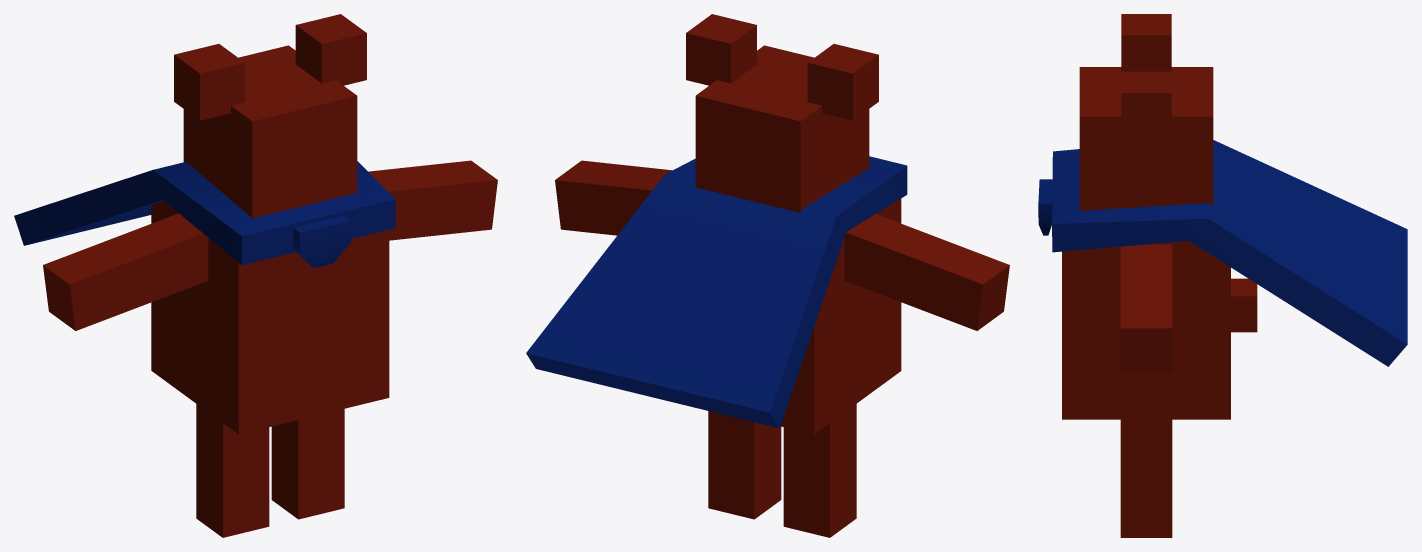
The model's file is SM_Supertower.fbx.
3 views of the same model, side by side, from view 1: azimuth 30°, elevation 25°; view 2: azimuth 150°, elevation 25°; view 3: azimuth 270°, elevation 25° (orthographic). The views are drawn at different scales.
Parts seen in each view (by area): view 1: pCube35; view 2: pCube35; view 3: pCube35.
Part boxes in pixels (box(x1,y1,x2,y2)): pCube35: box(14, 14, 497, 537); pCube35: box(526, 14, 1009, 537); pCube35: box(1038, 14, 1407, 537).
Size of the model in its own units: 40.52 by 42.44 by 31.17.
